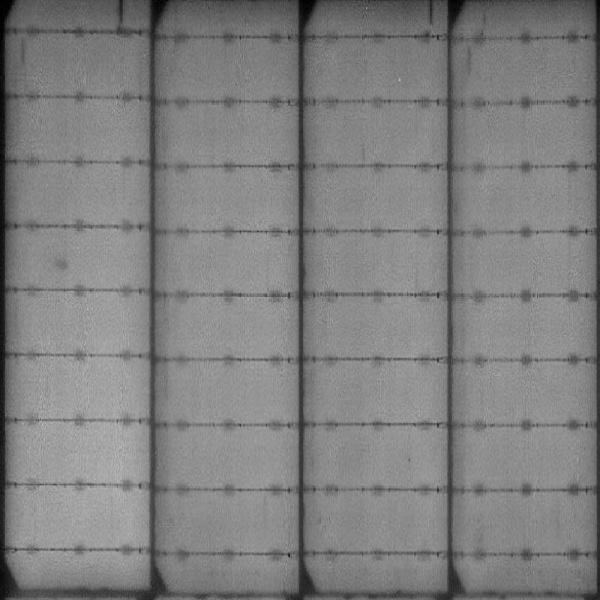scratch: (425, 1, 435, 27), (116, 1, 125, 27)
